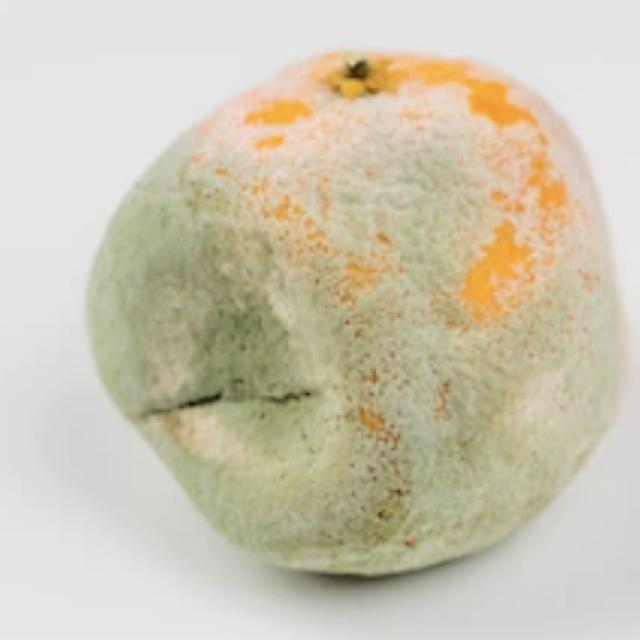sangat-busuk: (88, 52, 622, 573)
